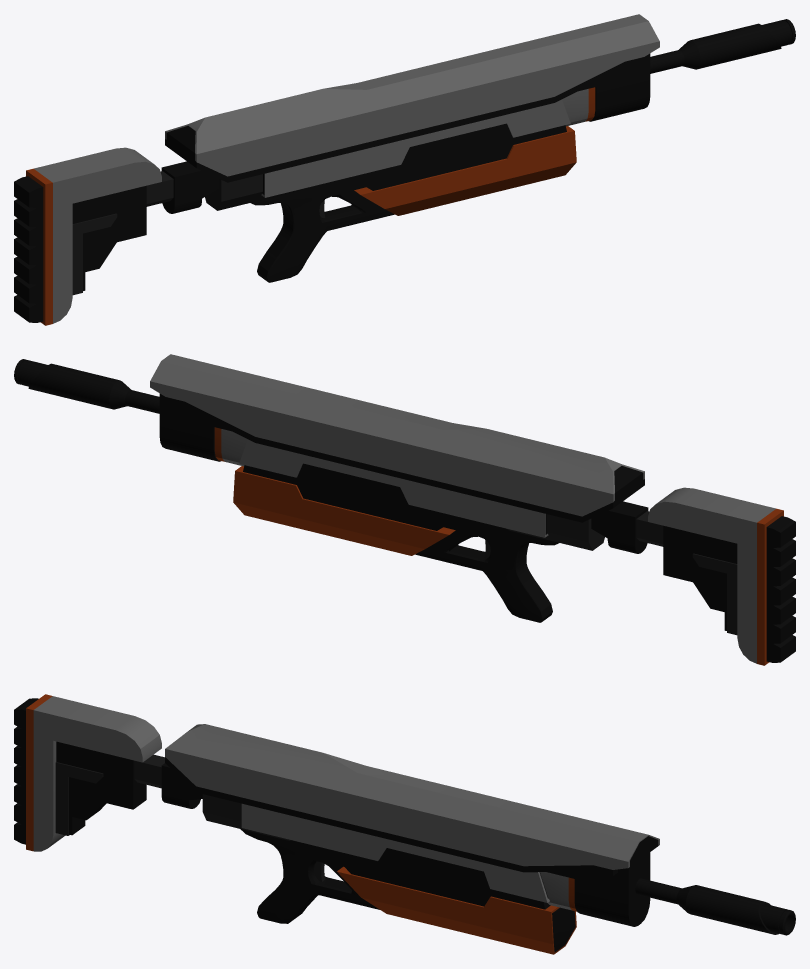
Rendered from Sniper_2.obj.
The picture shows the model from 3 angles, top to bottom: view 1: azimuth 30°, elevation 25°; view 2: azimuth 150°, elevation 25°; view 3: azimuth 330°, elevation 25°; orthographic projection.
Visible parts, largest first — view 1: Sniper_2_Cube.202; view 2: Sniper_2_Cube.202; view 3: Sniper_2_Cube.202.
Boxes of the visible parts, x1,y1,x2,y2 form: Sniper_2_Cube.202: (14, 14, 795, 325); Sniper_2_Cube.202: (14, 354, 795, 665); Sniper_2_Cube.202: (14, 694, 795, 954).
Size of the model in its own units: 2.51 by 0.5519 by 0.1784.
